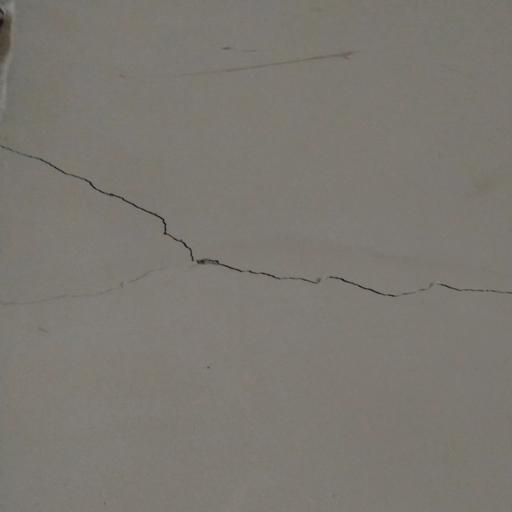major_crack: (0, 111, 512, 315)
